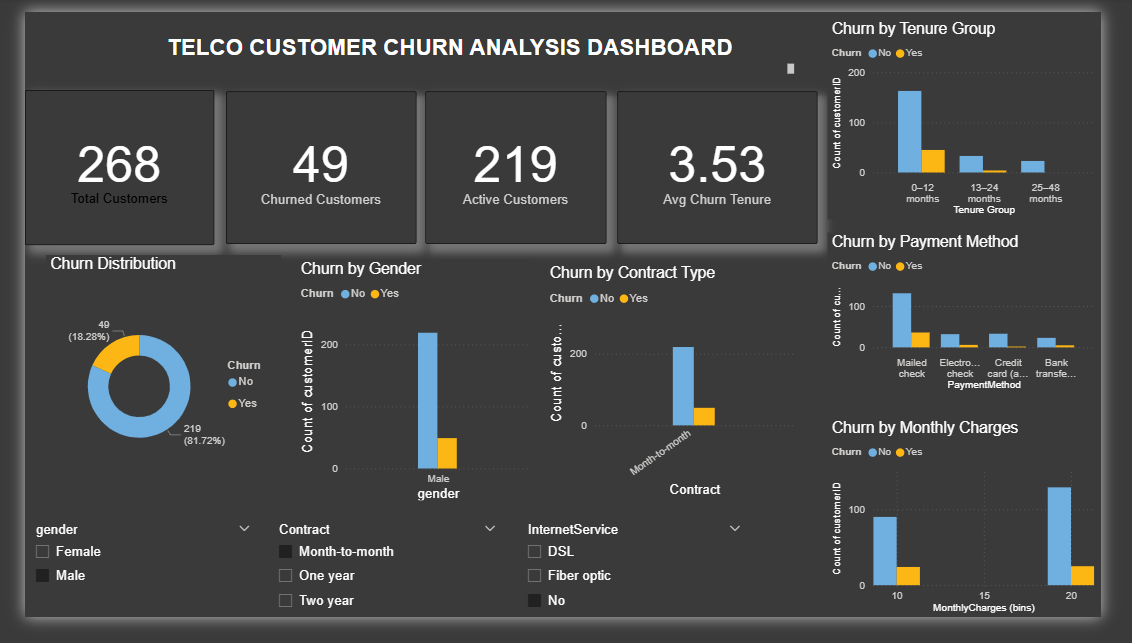

Layout of this report page (visuals, bound fields, positions):
{"tool":"powerbi","page":{"name":"Page 1","canvas":[1280,720],"ordinal":0},"visuals":[{"type":"card","fields":{"Values":["customer_churn.Total Customers"]},"box":[0,92.3,225.1,184.6],"z":0},{"type":"card","fields":{"Values":["customer_churn.Churned Customers"]},"box":[239.6,93.9,226.7,181.4],"z":1000},{"type":"card","fields":{"Values":["customer_churn.Active Customers"]},"box":[477.7,93.9,215.4,181.4],"z":2000},{"type":"card","fields":{"Values":["customer_churn.Avg Churn Tenure"]},"box":[706,93.9,238,181.4],"z":3000},{"type":"donutChart","title":"Churn Distribution","fields":{"Category":["customer_churn.Churn"],"Y":["CountNonNull(customer_churn.customerID)"]},"box":[24.3,289.8,280.1,291.5],"z":4000},{"type":"clusteredColumnChart","title":"Churn by Gender","fields":{"Category":["customer_churn.gender"],"Series":["customer_churn.Churn"],"Y":["CountNonNull(customer_churn.customerID)"]},"box":[323.8,294.7,283.4,291.5],"z":5000},{"type":"clusteredColumnChart","title":"Churn by Contract Type","fields":{"Category":["customer_churn.Contract"],"Series":["customer_churn.Churn"],"Y":["CountNonNull(customer_churn.customerID)"]},"box":[620.2,299.6,301.2,281.7],"z":6000},{"type":"slicer","fields":{"Values":["customer_churn.gender"]},"box":[0,602.4,280.1,118.2],"z":7000},{"type":"slicer","fields":{"Values":["customer_churn.Contract"]},"box":[289.8,602.4,283.4,118.2],"z":8000},{"type":"slicer","fields":{"Values":["customer_churn.InternetService"]},"box":[586.2,602.4,278.5,118.2],"z":9000},{"type":"clusteredColumnChart","title":"Churn by Tenure Group ","fields":{"Category":["customer_churn.Tenure Group"],"Series":["customer_churn.Churn"],"Y":["CountNonNull(customer_churn.customerID)"]},"box":[956.2,9.4,323.2,238.1],"z":10000},{"type":"clusteredColumnChart","title":"Churn by Payment Method ","fields":{"Category":["customer_churn.PaymentMethod"],"Series":["customer_churn.Churn"],"Y":["CountNonNull(customer_churn.customerID)"]},"box":[956.2,262.7,323.2,192.8],"z":11000},{"type":"clusteredColumnChart","title":"Churn by Monthly Charges","fields":{"Category":["customer_churn.MonthlyCharges (bins)"],"Series":["customer_churn.Churn"],"Y":["CountNonNull(customer_churn.customerID)"]},"box":[955.3,484.1,322.2,236.4],"z":12000},{"type":"textbox","title":"TELCO CUSTOMER CHURN ANALYSIS DASHBOARD","box":[165.2,25.9,756.2,51.8],"z":13000}]}

Visuals, with their boxes in screenshot pixels (x1, y1, x2, y2), scaled from the page's 1280x720 canvas onto the 1132x643 screenshot:
card - customer_churn.Total Customers: [x1=0, y1=82, x2=199, y2=247]
card - customer_churn.Churned Customers: [x1=212, y1=84, x2=412, y2=246]
card - customer_churn.Active Customers: [x1=422, y1=84, x2=613, y2=246]
card - customer_churn.Avg Churn Tenure: [x1=624, y1=84, x2=835, y2=246]
"Churn Distribution" donutChart: [x1=21, y1=259, x2=269, y2=519]
"Churn by Gender" clusteredColumnChart: [x1=286, y1=263, x2=537, y2=524]
"Churn by Contract Type" clusteredColumnChart: [x1=548, y1=268, x2=815, y2=519]
slicer - customer_churn.gender: [x1=0, y1=538, x2=248, y2=642]
slicer - customer_churn.Contract: [x1=256, y1=538, x2=507, y2=642]
slicer - customer_churn.InternetService: [x1=518, y1=538, x2=765, y2=642]
"Churn by Tenure Group " clusteredColumnChart: [x1=846, y1=8, x2=1131, y2=221]
"Churn by Payment Method " clusteredColumnChart: [x1=846, y1=235, x2=1131, y2=407]
"Churn by Monthly Charges" clusteredColumnChart: [x1=845, y1=432, x2=1130, y2=642]
"TELCO CUSTOMER CHURN ANALYSIS DASHBOARD" textbox: [x1=146, y1=23, x2=815, y2=69]
